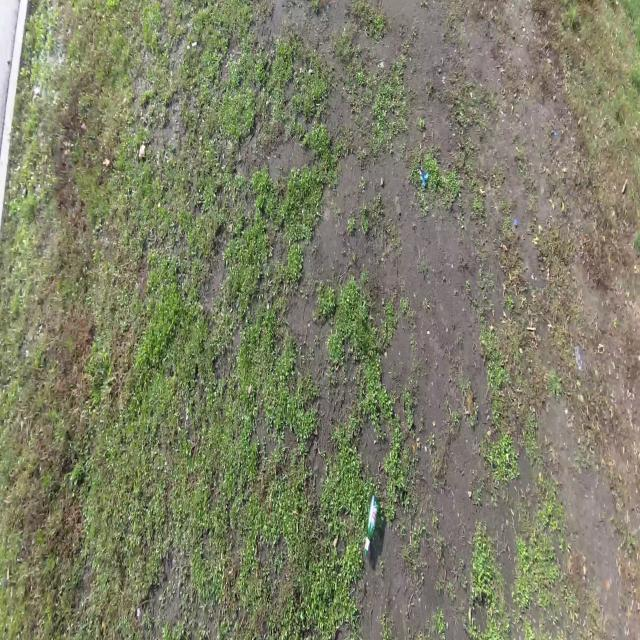rubbish: (364, 493, 379, 559), (419, 165, 429, 192)
